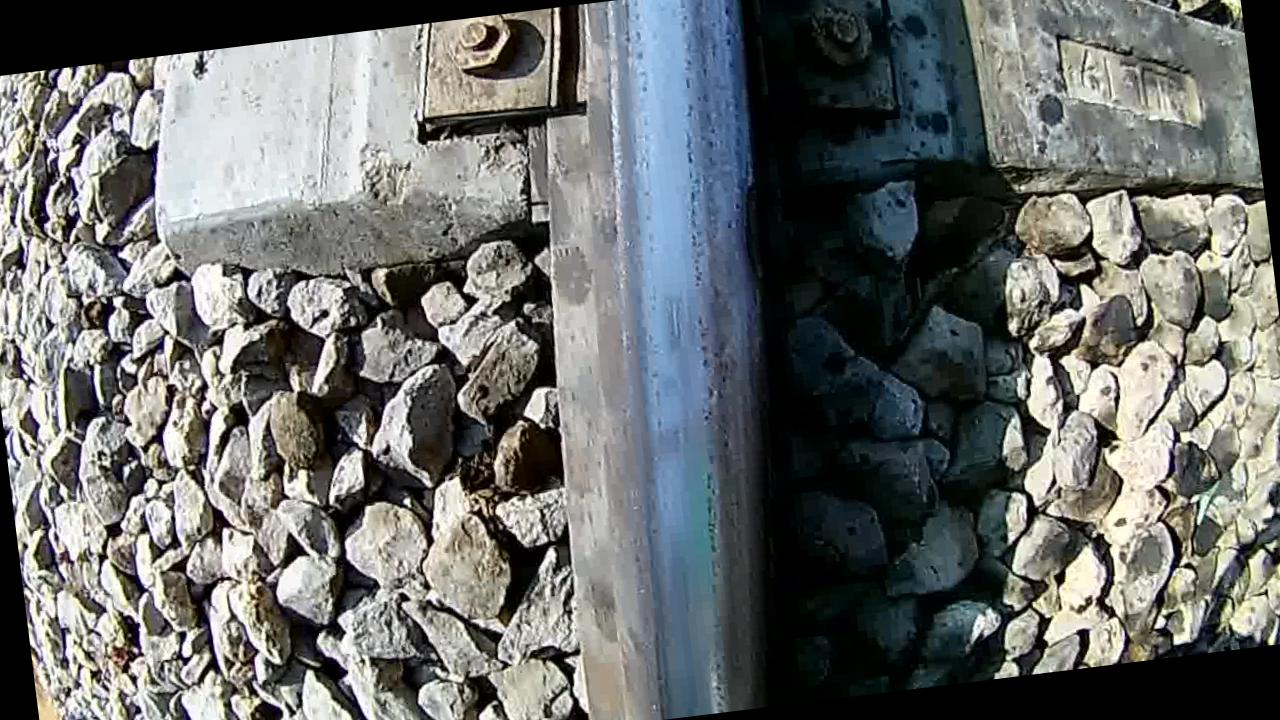clip_missing: (546, 0, 815, 709)
